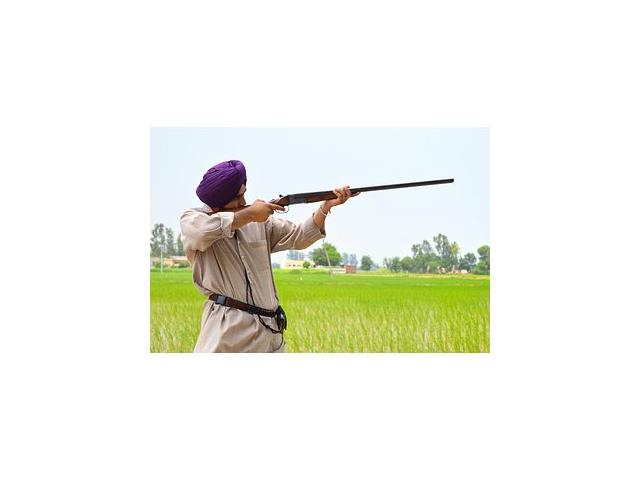rifle: (204, 174, 455, 242)
